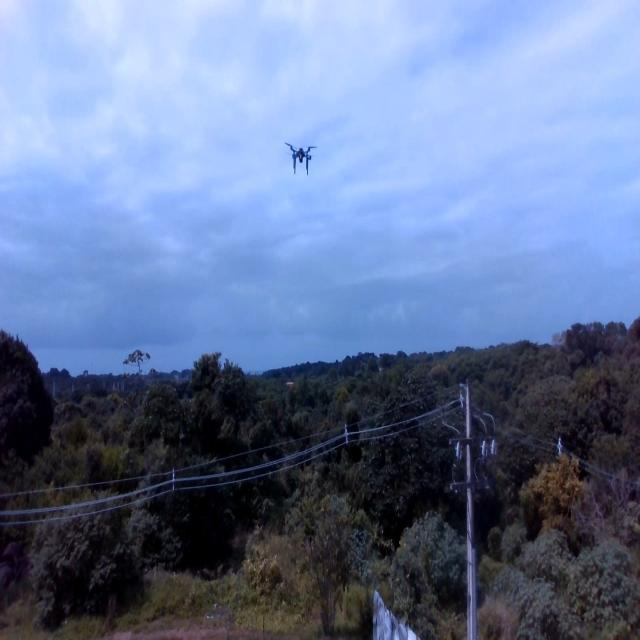-uav-: (283, 122, 322, 191)
